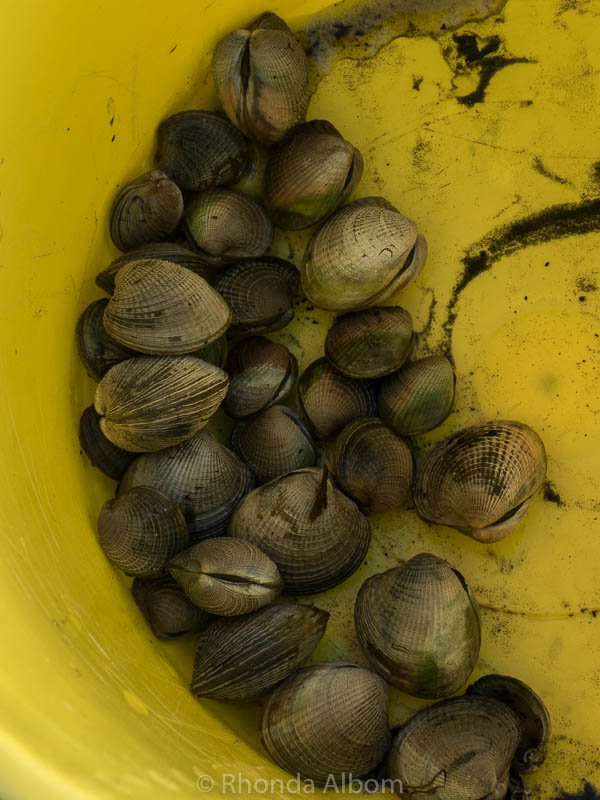cockle: (351, 550, 483, 703), (227, 465, 374, 595), (411, 419, 552, 547), (299, 192, 432, 314), (184, 601, 334, 704), (255, 658, 390, 772), (111, 426, 258, 527), (209, 7, 310, 147), (88, 356, 232, 453), (391, 700, 523, 800), (101, 260, 235, 353), (266, 114, 364, 229), (161, 536, 287, 616), (461, 671, 554, 773), (94, 487, 189, 582), (153, 108, 257, 192), (334, 412, 415, 517), (208, 255, 309, 339), (374, 355, 461, 438), (182, 187, 275, 264), (294, 354, 378, 438), (322, 307, 422, 377), (104, 166, 186, 249), (220, 335, 300, 417), (238, 402, 320, 477), (91, 246, 224, 290), (72, 402, 139, 489), (128, 571, 207, 639), (76, 294, 130, 381)
